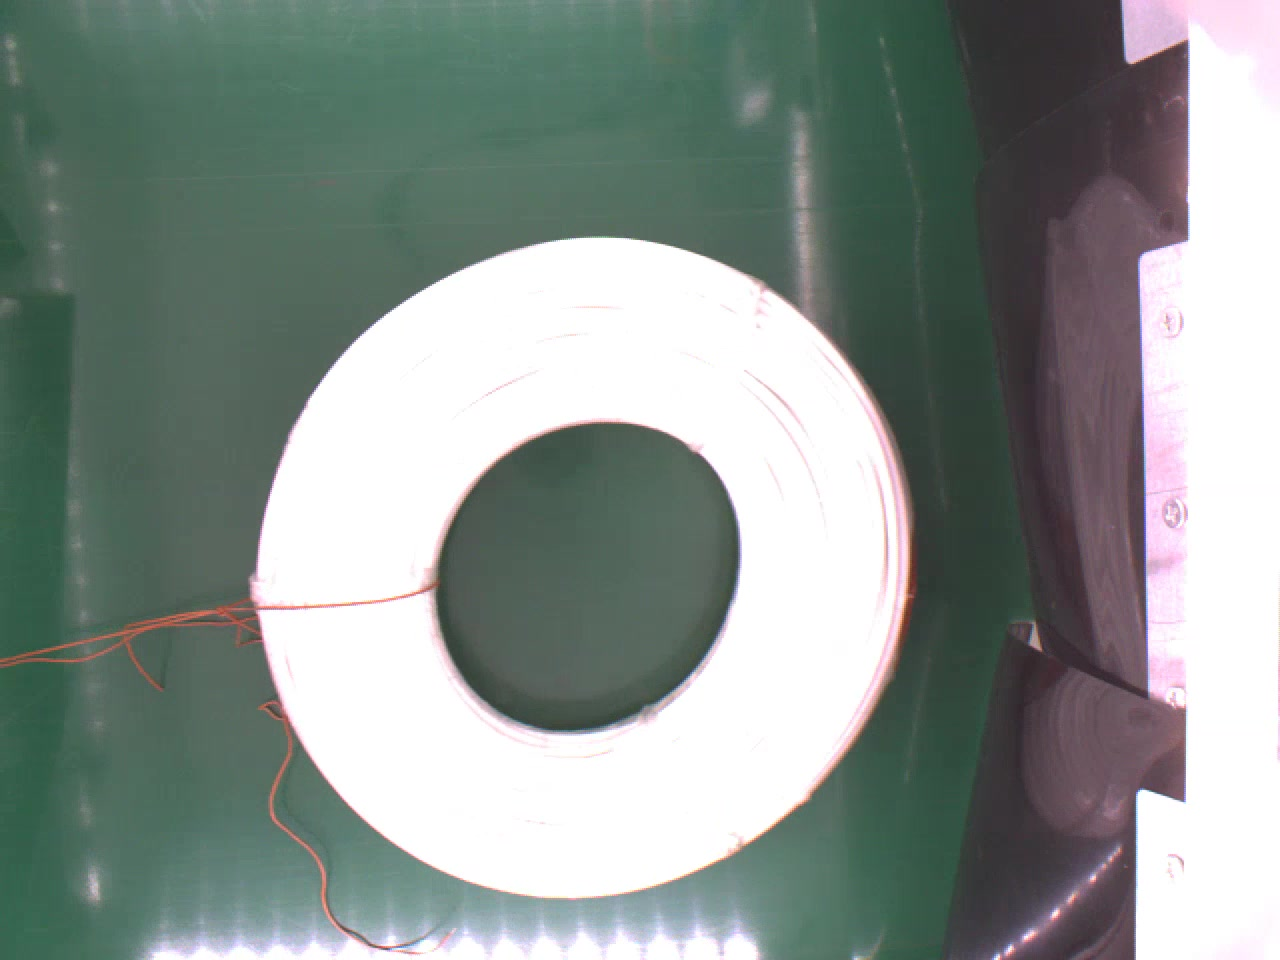white: (248, 232, 927, 903)
